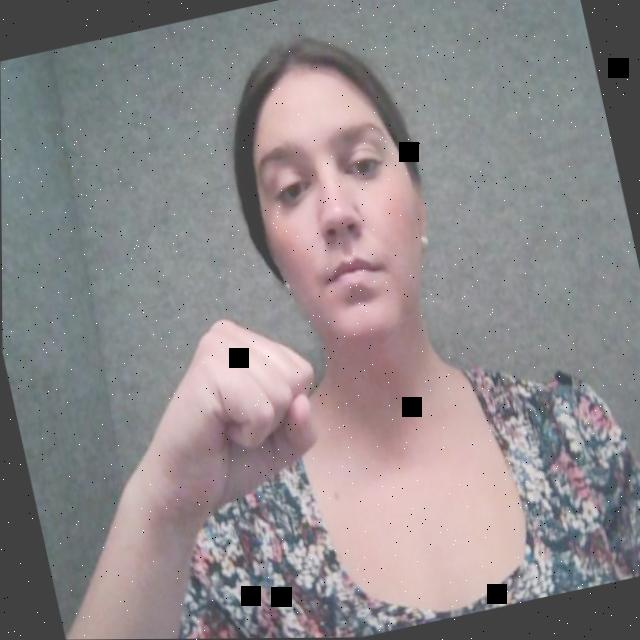Rock: (118, 289, 352, 554)
